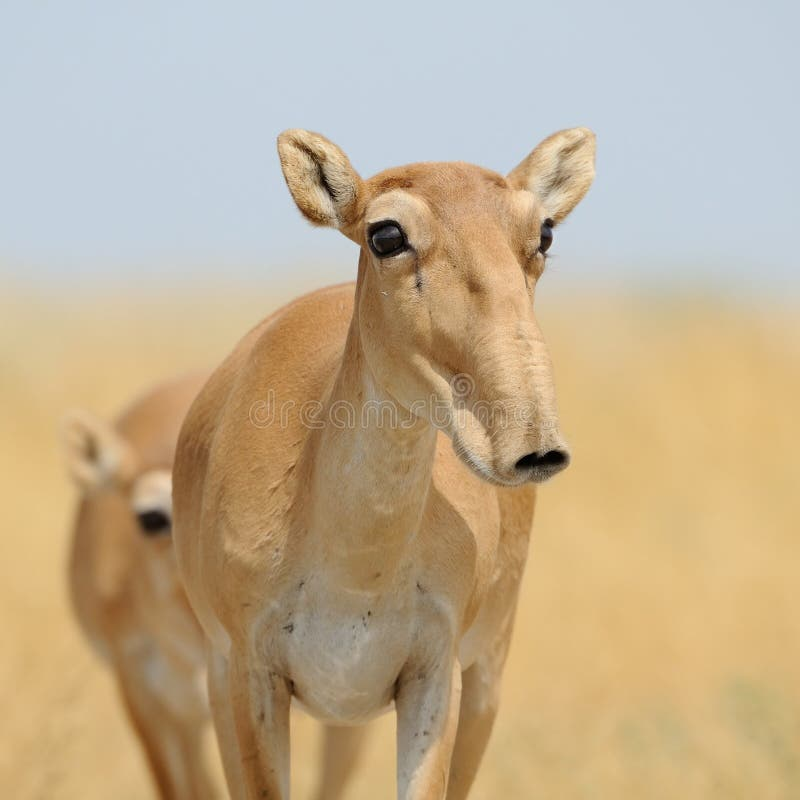saiga: (165, 124, 598, 800)
